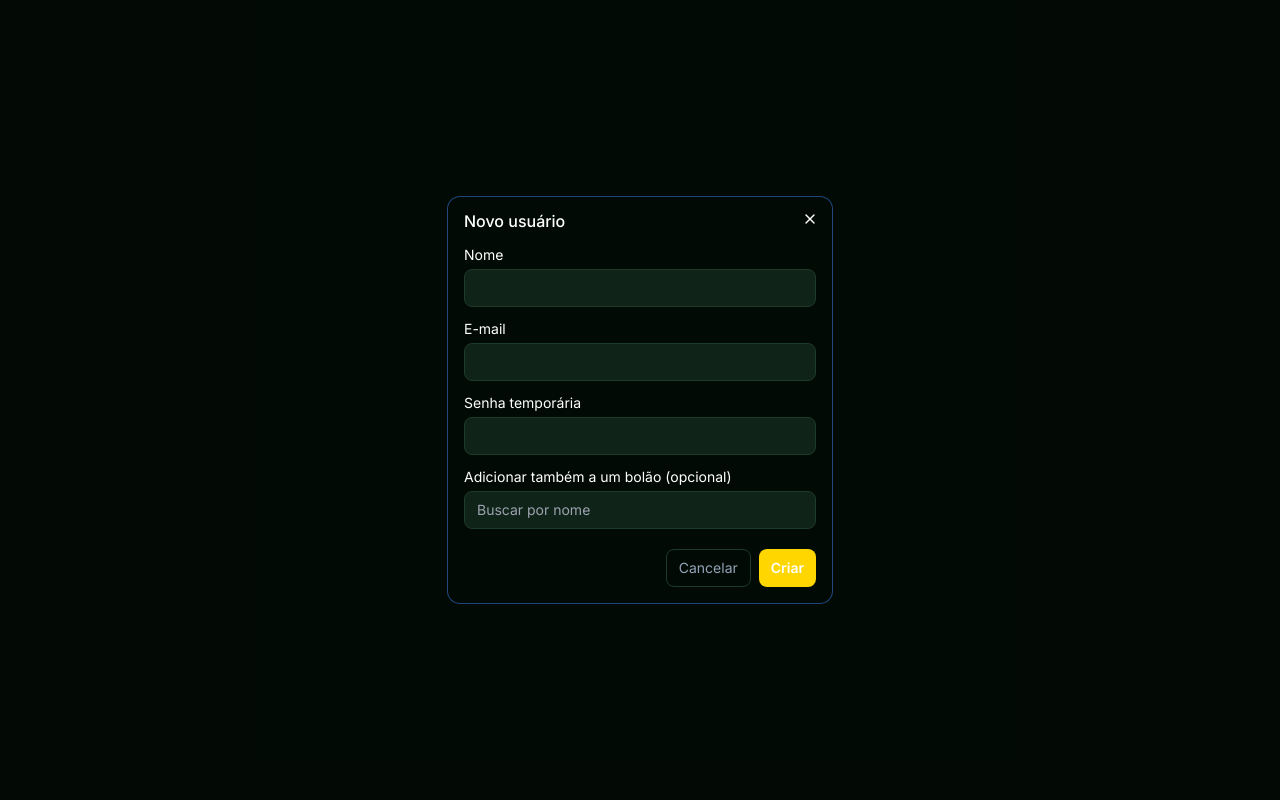
exibe erro quando POST falha
Type "Alice" into the field labelled "Nome" at {"x": 640, "y": 288}, box 464,269 -> 816,307
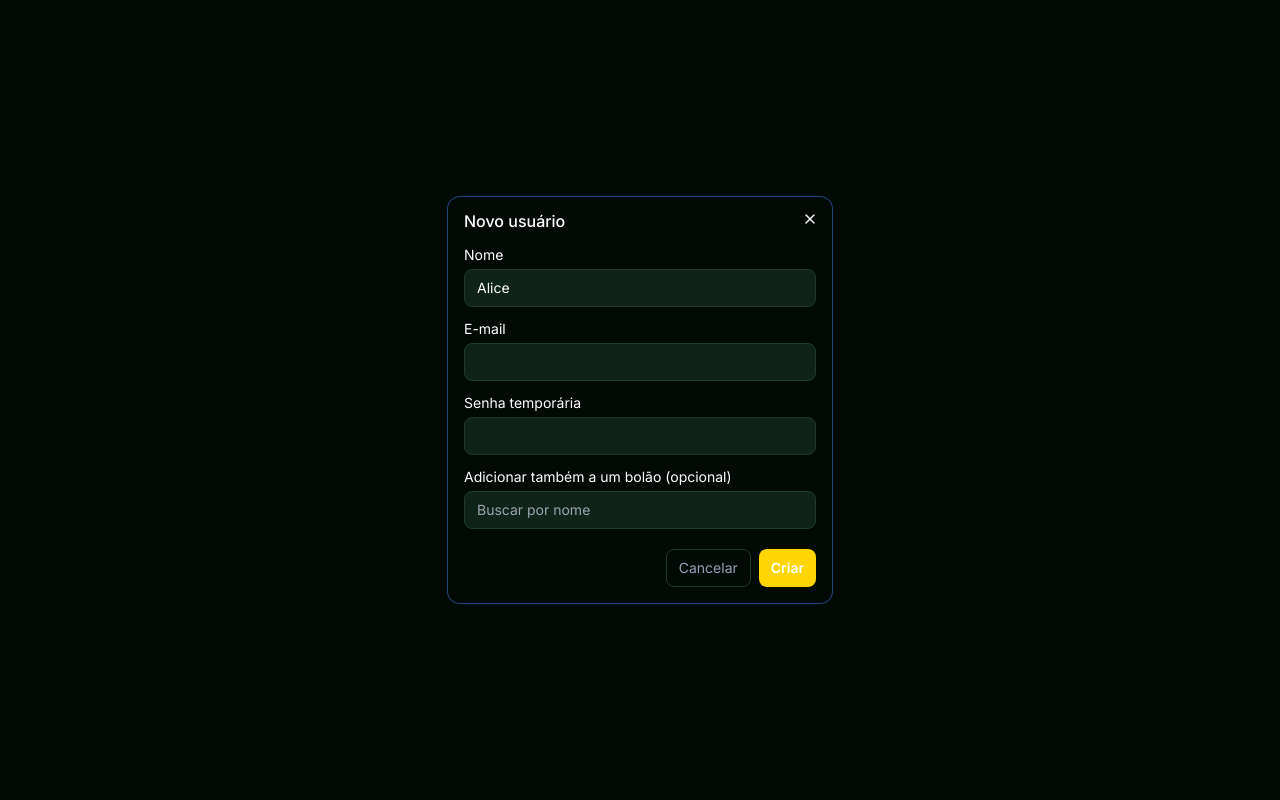
Type "a@a.com" into the field labelled "E-mail" at {"x": 640, "y": 362}, box 464,343 -> 816,381
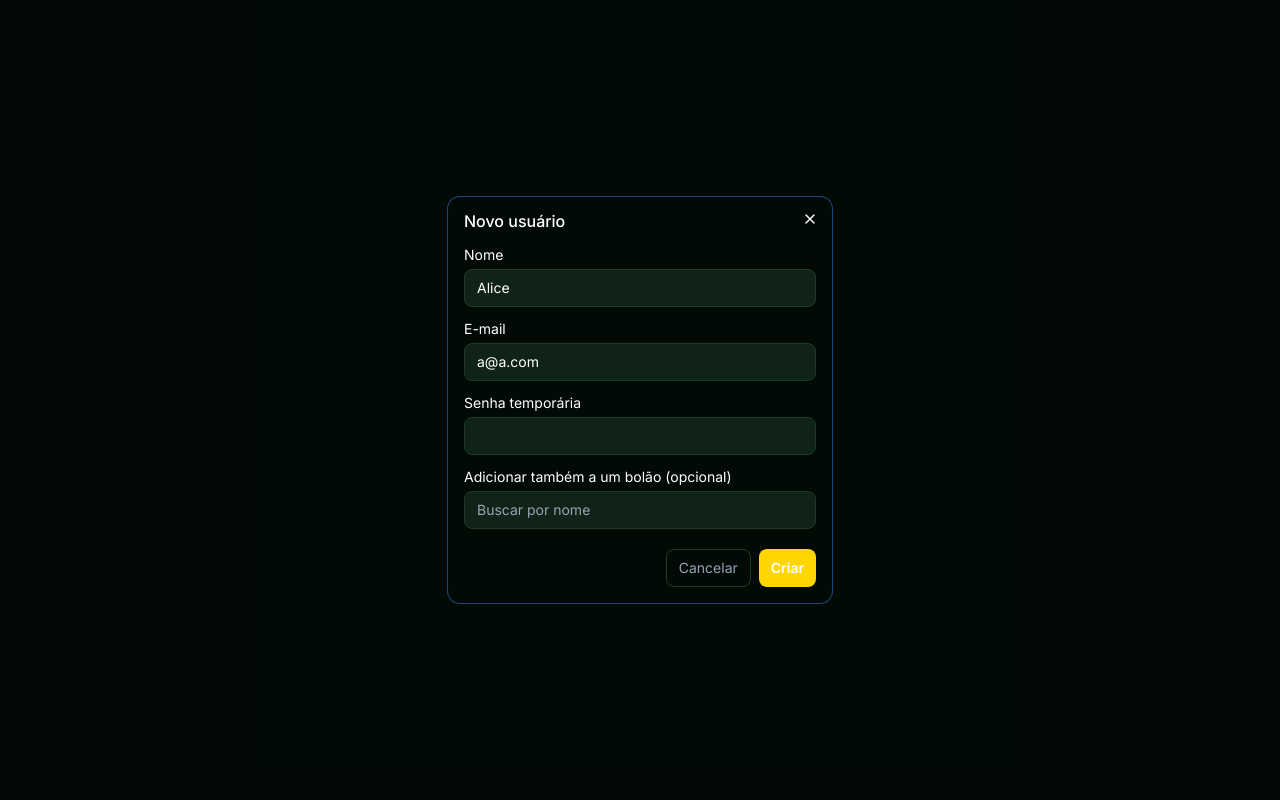
Type "senha12345" into the field labelled "Senha temporária" at {"x": 640, "y": 436}, box 464,417 -> 816,455
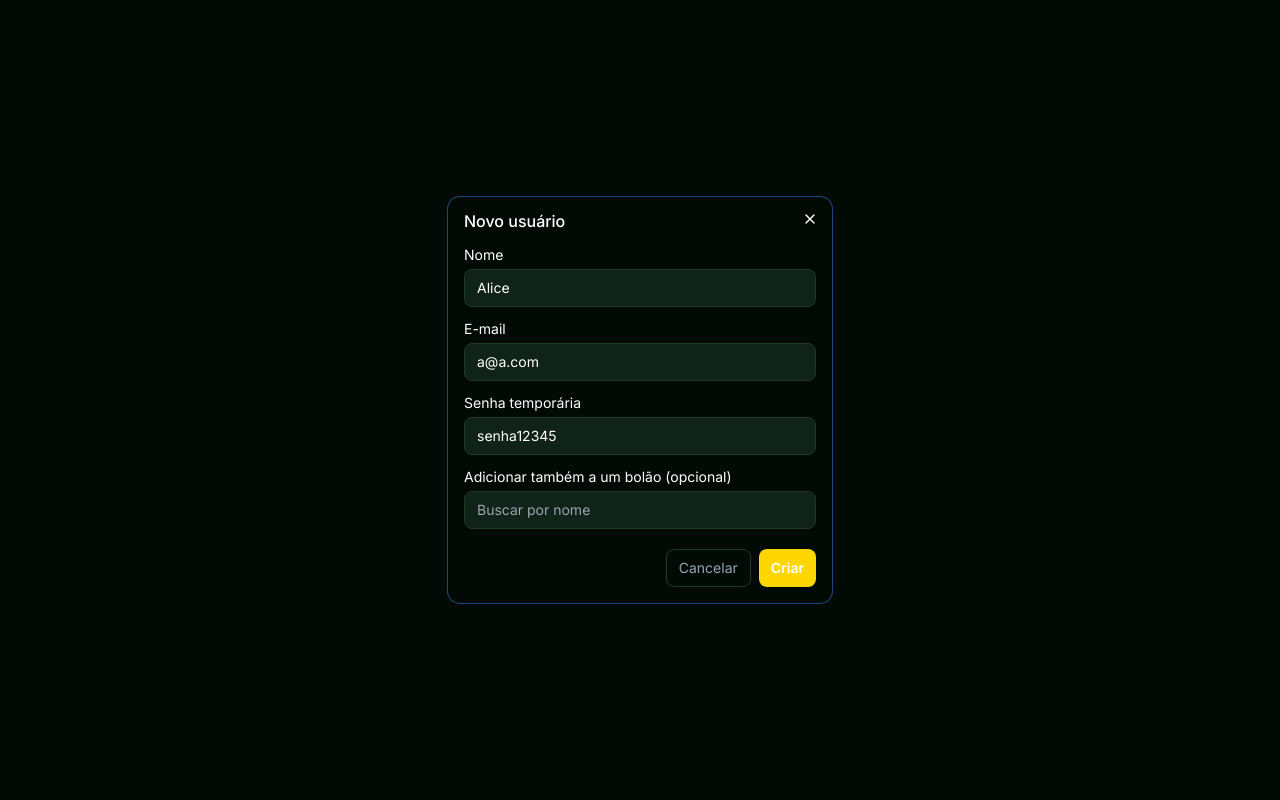
Click the button "Criar" at {"x": 787, "y": 568}, box 759,549 -> 816,587
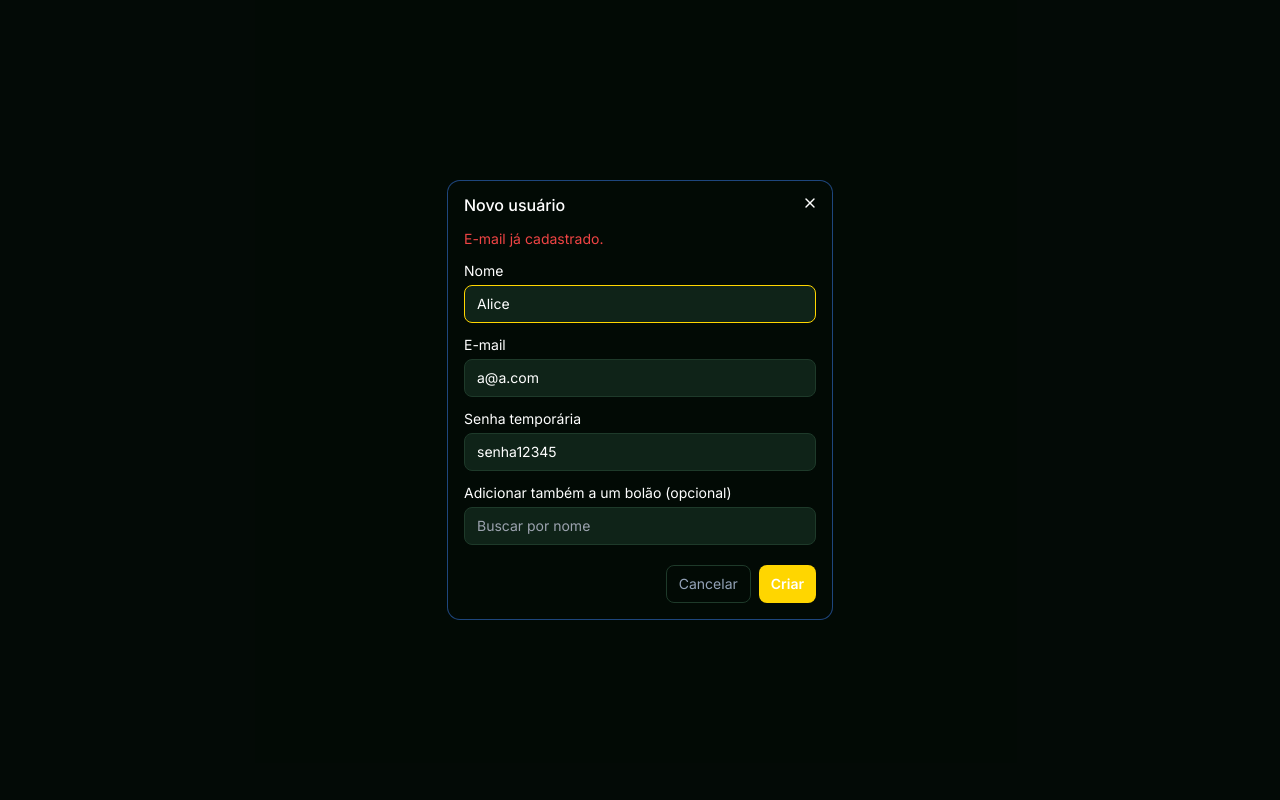
expect the text "E-mail já cadastrado." is shown: met, box 464,230 -> 603,247
